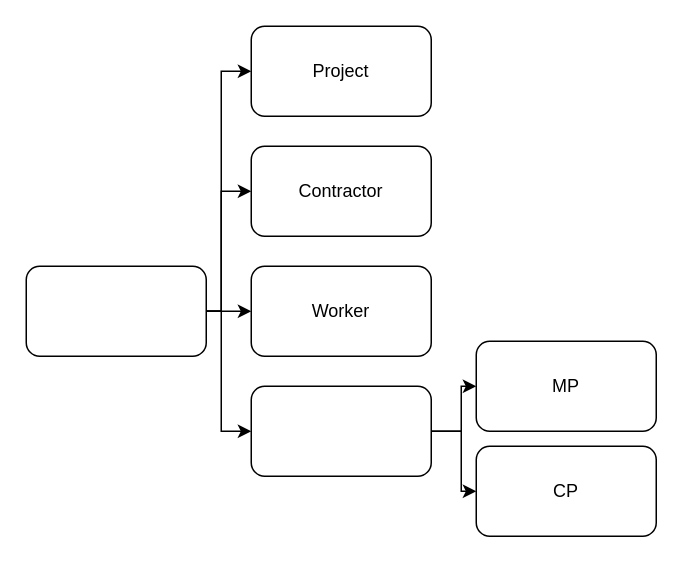
This 683x563 diagram has some shape labels left out. Here are the shapes that lost their labels. From the top down, the centre of each, then its label:
point (115, 310): Request
point (340, 430): Location
